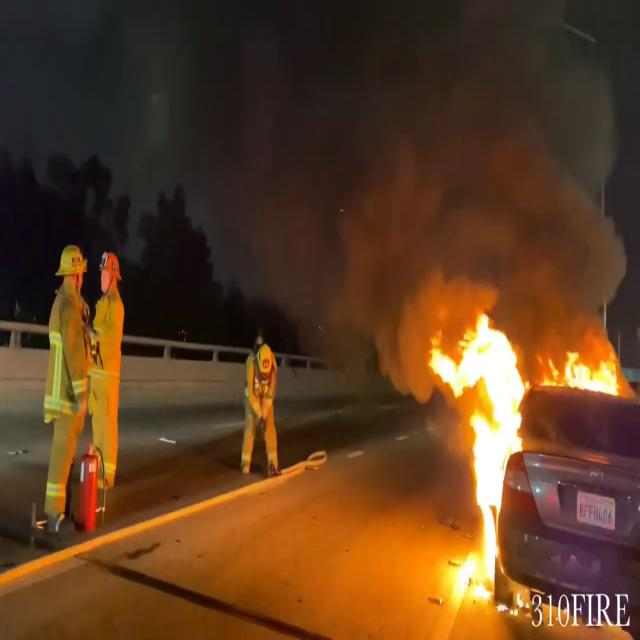Fire: (421, 309, 534, 613), (544, 345, 630, 399)
Smoke: (116, 0, 636, 322)
